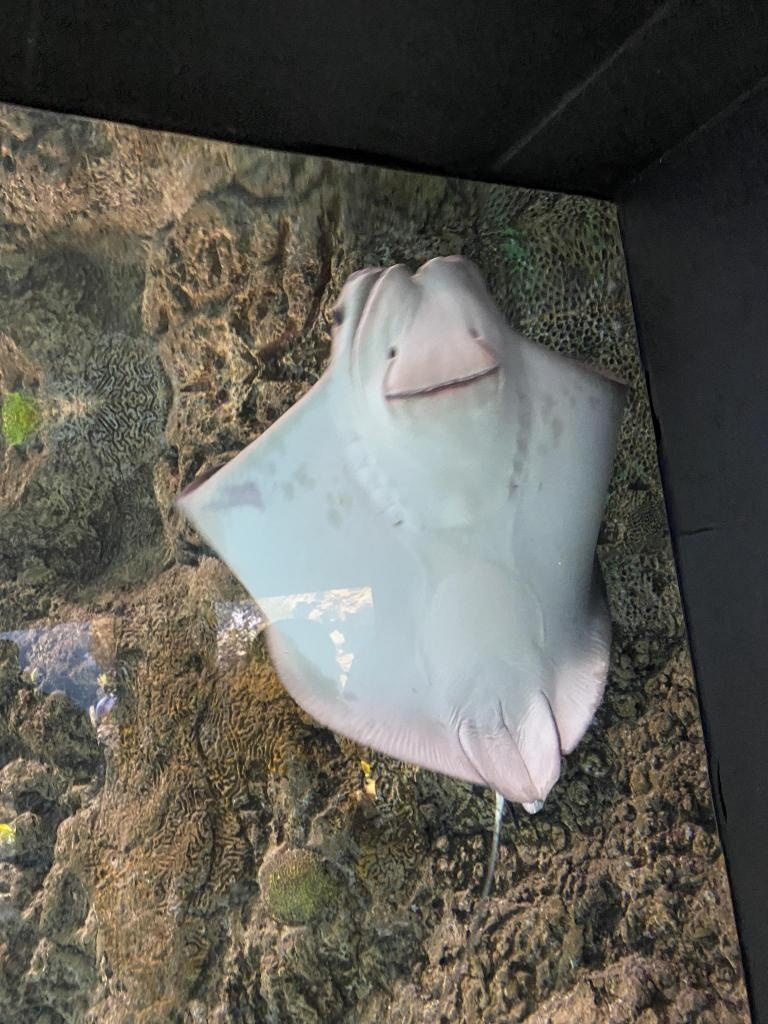stingray: (174, 254, 642, 816)
